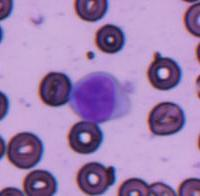L: (68, 71, 132, 124)
